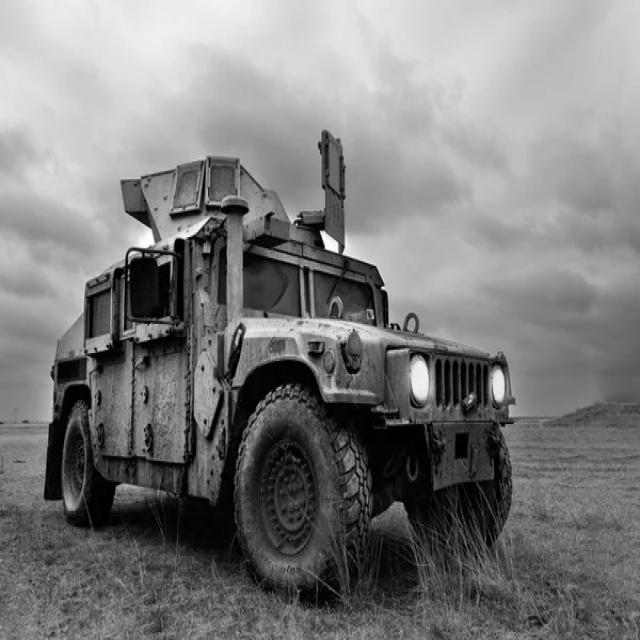Car: (44, 131, 515, 594)
